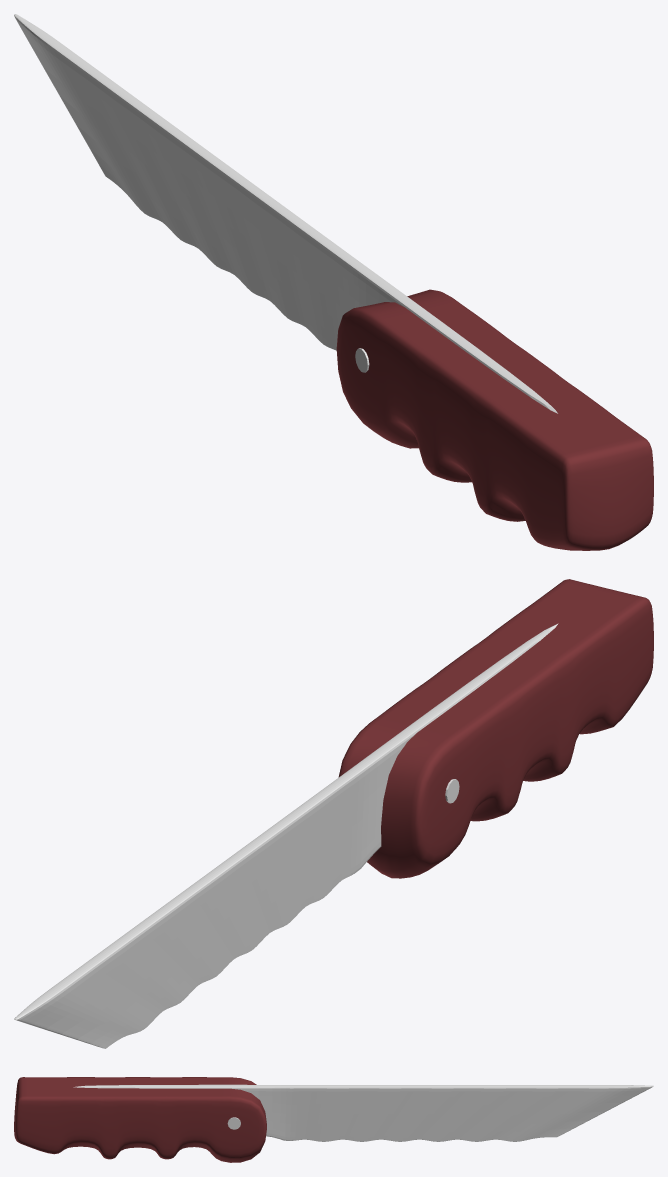
File: Couteau.fbx
The picture shows the model from 3 angles, top to bottom: view 1: azimuth 30°, elevation 25°; view 2: azimuth 150°, elevation 25°; view 3: azimuth 270°, elevation 25°; orthographic projection. The views are drawn at different scales.
Parts seen in each view (by area): view 1: CouteauManche; view 2: CouteauManche; view 3: CouteauManche.
Boxes of the visible parts, <box> form: CouteauManche: <box>14,14,653,550</box>; CouteauManche: <box>14,579,653,1048</box>; CouteauManche: <box>14,1077,653,1162</box>.
Bounding box in the file's own units: 44.88 × 66.15 × 507.
